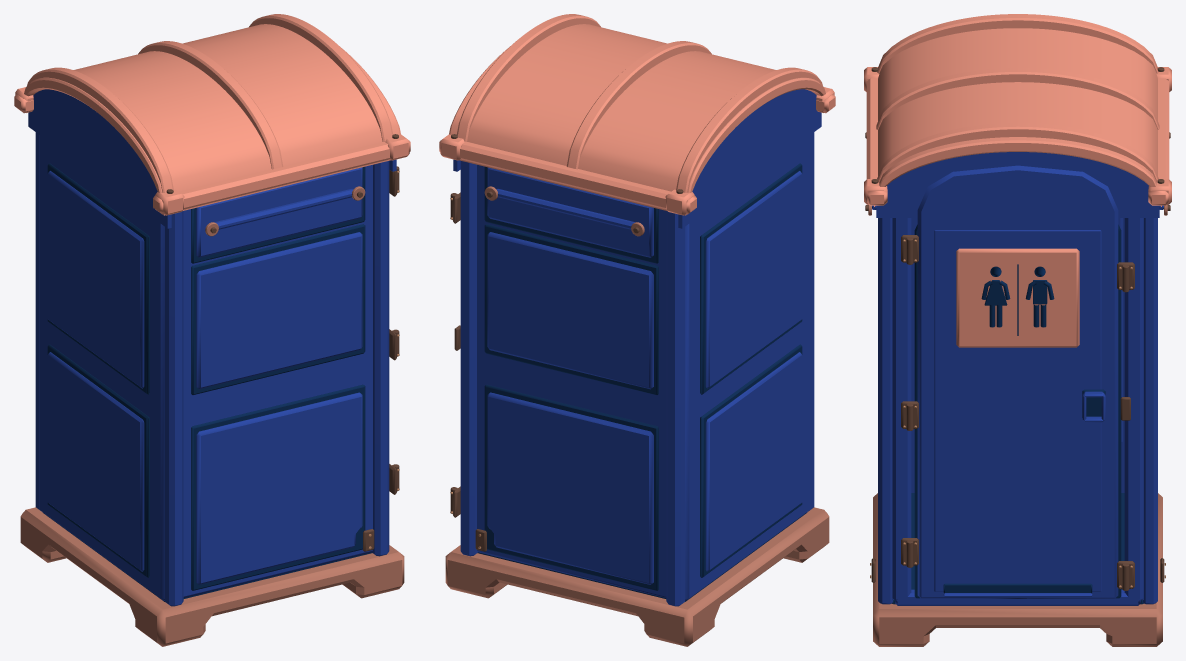
Rendered from prop.porta-potty.glb.
The picture shows the model from 3 angles, left to right: view 1: azimuth 30°, elevation 25°; view 2: azimuth 150°, elevation 25°; view 3: azimuth 270°, elevation 25°; orthographic projection.
Parts seen in each view (by area): view 1: body, object 2; view 2: body, object 2; view 3: object 2, body.
Part boxes in pixels (x1,y1,x2,y2): body: [28, 89, 396, 606]; object 2: [14, 14, 410, 646]; body: [453, 89, 821, 606]; object 2: [439, 14, 835, 646]; object 2: [864, 14, 1171, 646]; body: [872, 152, 1163, 605].
Size of the model in its own units: 1.31 by 2.45 by 1.33.
